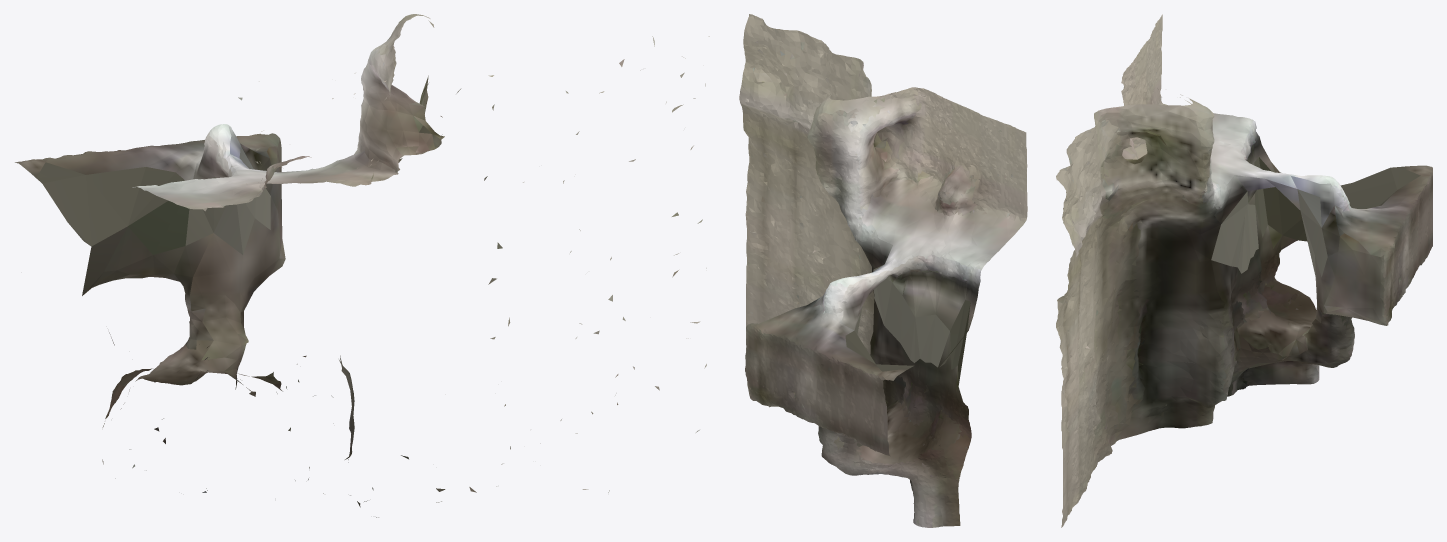
The picture shows the model from 3 angles, left to right: view 1: azimuth 30°, elevation 25°; view 2: azimuth 150°, elevation 25°; view 3: azimuth 270°, elevation 25°; orthographic projection. The views are drawn at different scales.
Size of the model in its own units: 0.983 by 0.983 by 0.958.
Materials: 1 (1 with a texture image).
